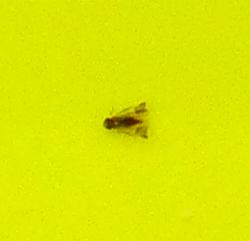Hemiptera: (100, 100, 150, 141)
